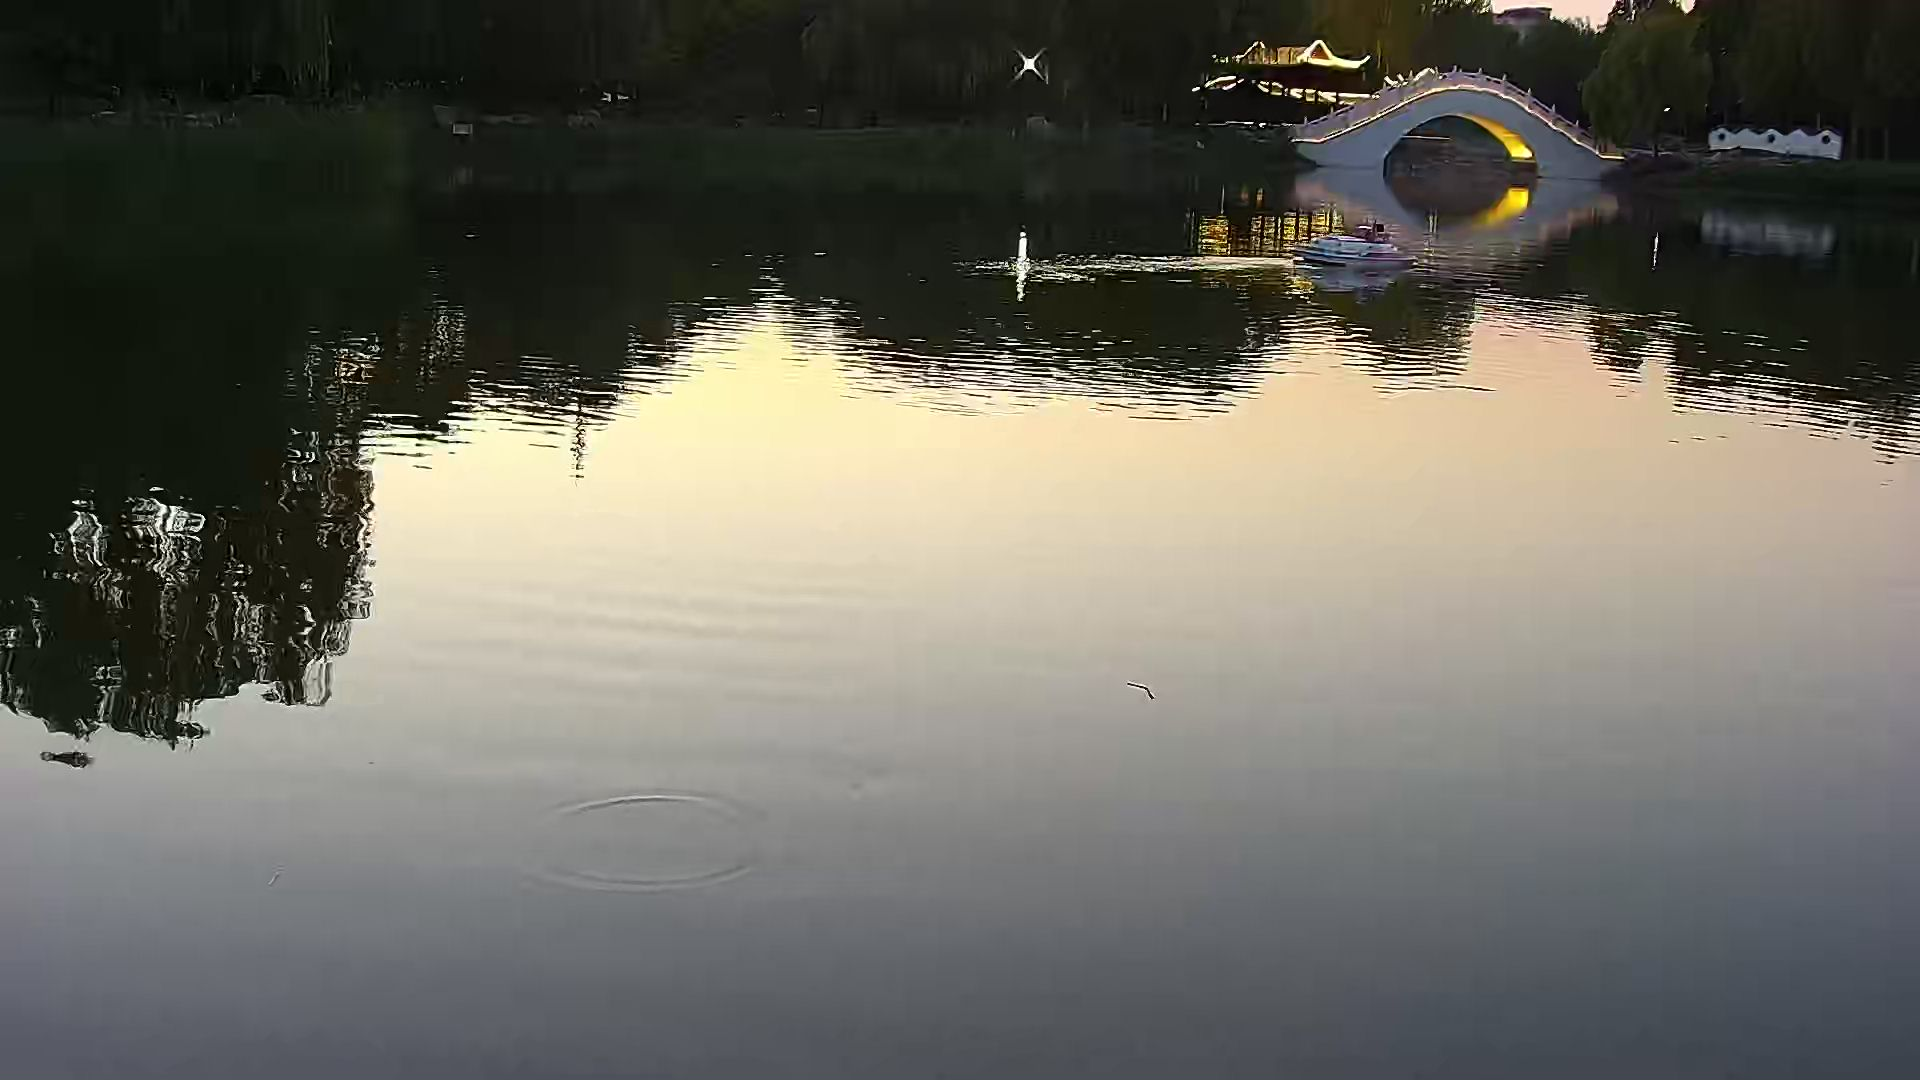boat: (1283, 214, 1414, 276)
bridge: (1305, 63, 1604, 177)
